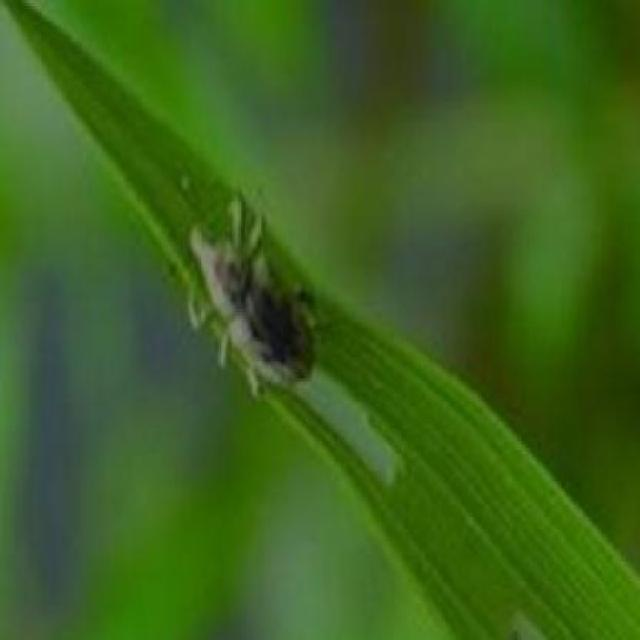rice-bug: (181, 179, 321, 401)
